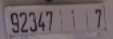2: (19, 12, 29, 33)
3: (29, 11, 37, 32)
4: (38, 10, 46, 32)
7: (46, 10, 53, 33), (95, 9, 101, 29)
9: (10, 12, 19, 33)
a: (70, 7, 77, 30)
